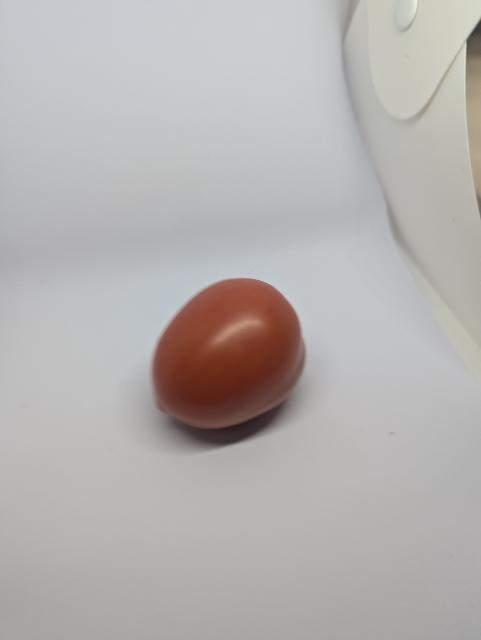red: (129, 262, 327, 449)
